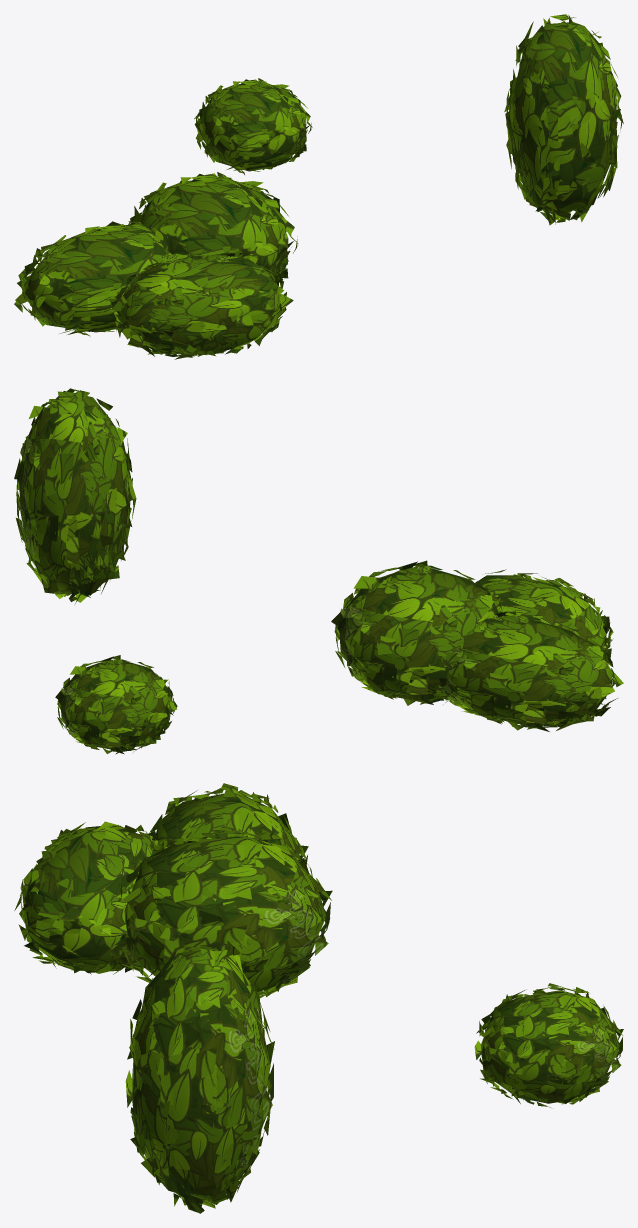
The model's file is Arbusto.2_LOD.fbx.
3 views of the same model, one above another, from view 1: azimuth 30°, elevation 25°; view 2: azimuth 150°, elevation 25°; view 3: azimuth 270°, elevation 25° (orthographic). The views are drawn at different scales.
Visible parts, largest first — view 1: Bush.001_LOD0; view 2: Bush.001_LOD0; view 3: Bush.001_LOD0.
Part boxes in pixels (<box>): Bush.001_LOD0: <box>14,14,623,359</box>; Bush.001_LOD0: <box>14,388,623,754</box>; Bush.001_LOD0: <box>14,783,623,1213</box>.
Size of what is drawn, in the model's own units: 2049 by 679 by 1435.
2 materials, 2 textured.
